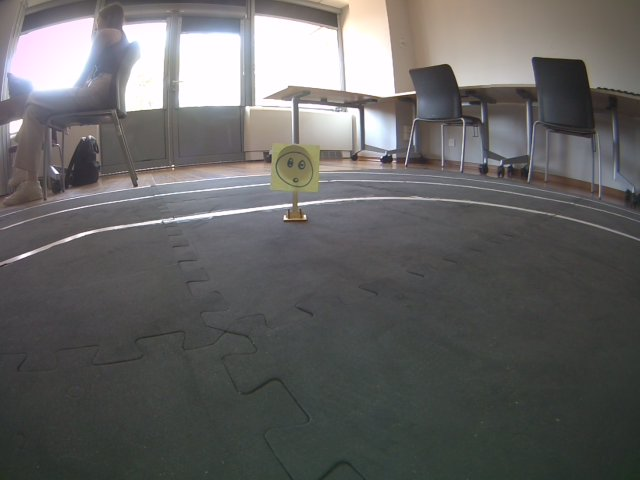Smiley: (268, 142, 319, 193)
